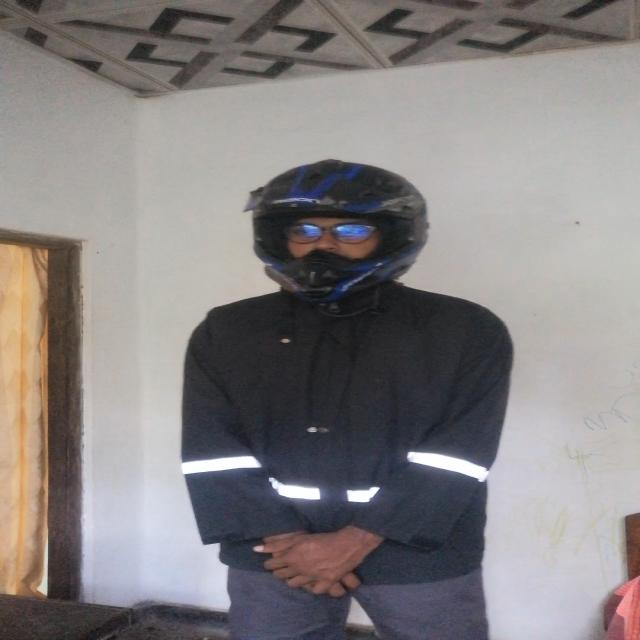Helmet_Wearer: (213, 147, 437, 313)
Jacket_Wearer: (188, 275, 508, 583)
Person: (157, 148, 530, 640)
